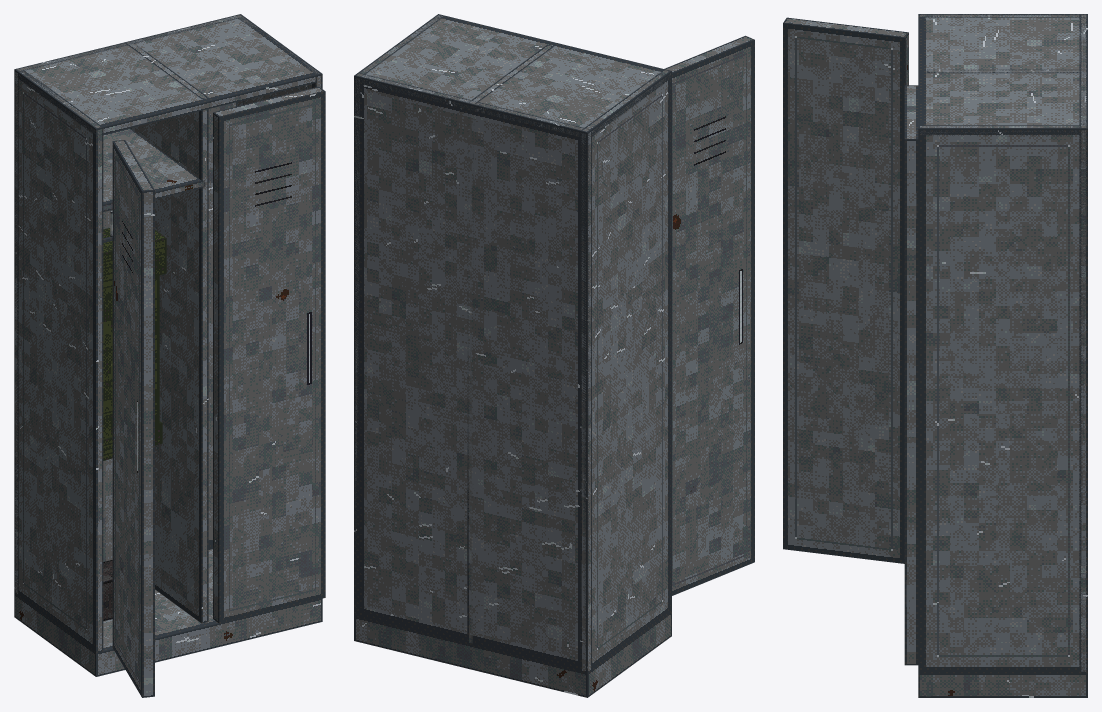
File: SM_Locker_Open_01.glb
3 renders of one model, left to right at view 1: azimuth 30°, elevation 25°; view 2: azimuth 150°, elevation 25°; view 3: azimuth 270°, elevation 25°, orthographic. The views are drawn at different scales.
Parts seen in each view (by area): view 1: SM_Locker_Open_01; view 2: SM_Locker_Open_01; view 3: SM_Locker_Open_01.
Boxes of the visible parts, left/top/right/bottom form: SM_Locker_Open_01: left=14, top=14, right=325, bottom=697; SM_Locker_Open_01: left=354, top=14, right=754, bottom=697; SM_Locker_Open_01: left=783, top=14, right=1087, bottom=697.
Bounding box in the file's own units: 0.8609 × 1.85 × 0.8982.
Materials: 1 (1 with a texture image).
